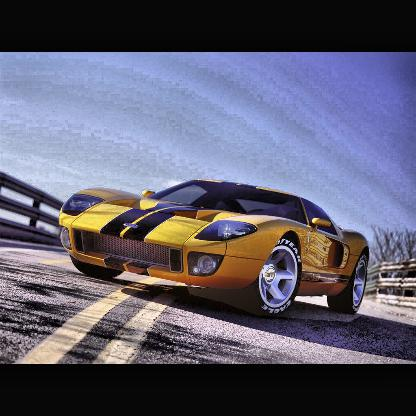Ford GT Coupe 2006: (59, 179, 372, 319)
